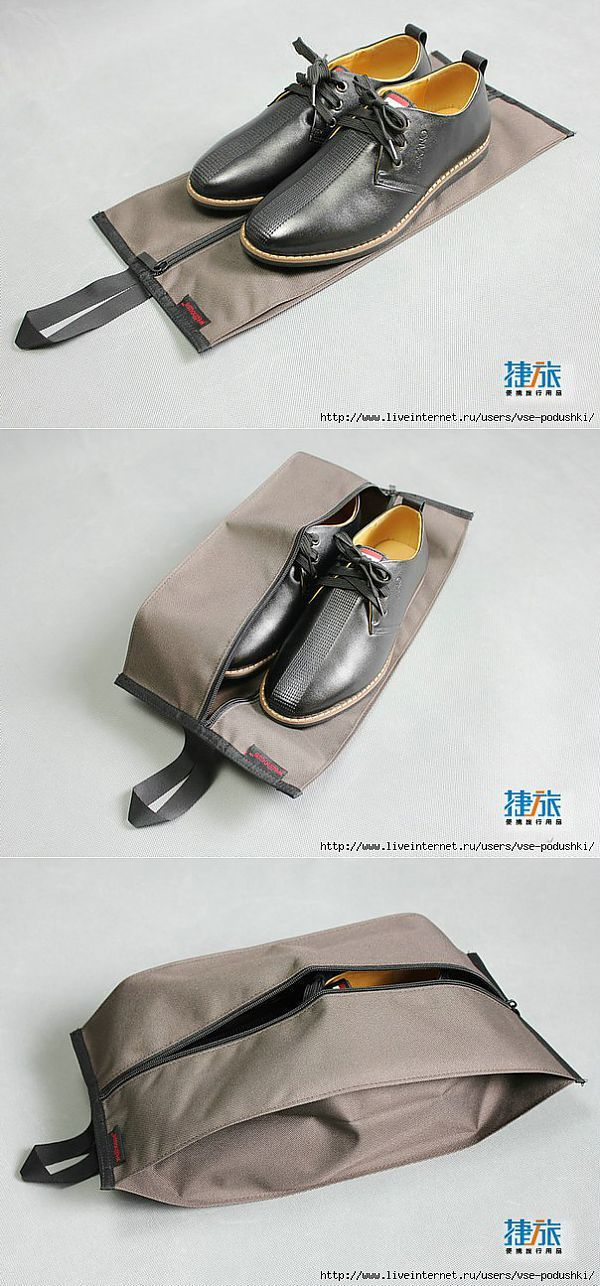cuero: (191, 28, 489, 725)
